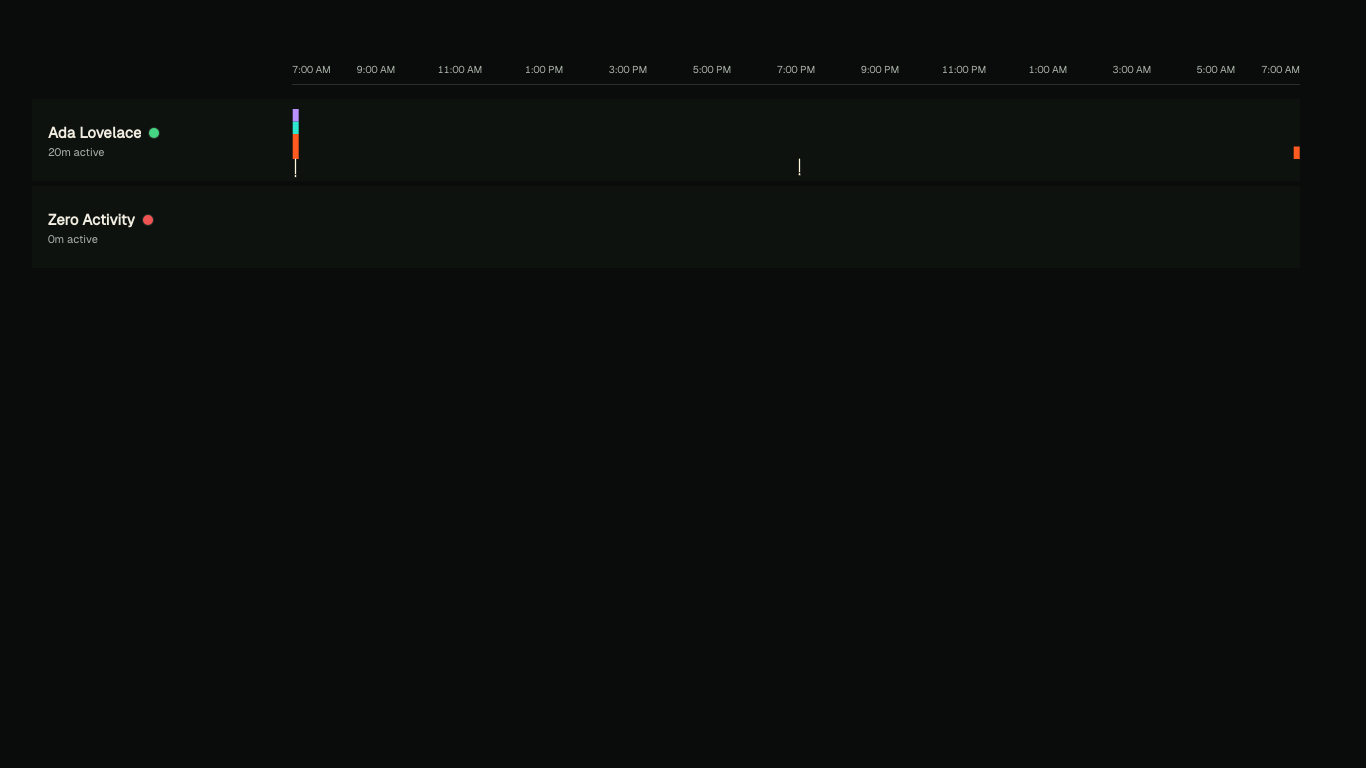
Scenario: FlameGraph › explains interval failure flame_interval_snapshot_expired
The image size is (1366, 768).
Click the 1st element with class "recharts-wrapper".
click(796, 140)  # box x1=292 y1=99 x2=1300 y2=181
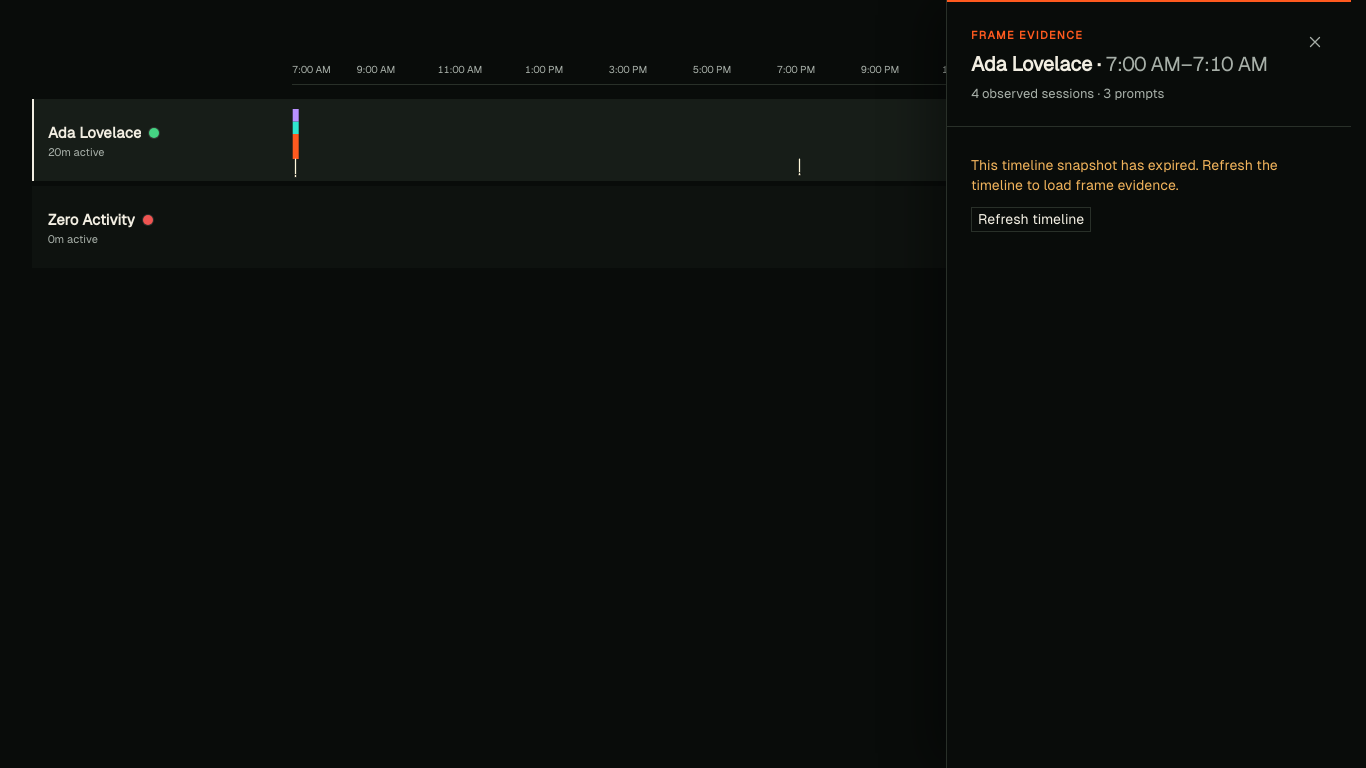
Now the message shows "timeline snapshot has expired", box x1=971 y1=157 x2=1278 y2=193
